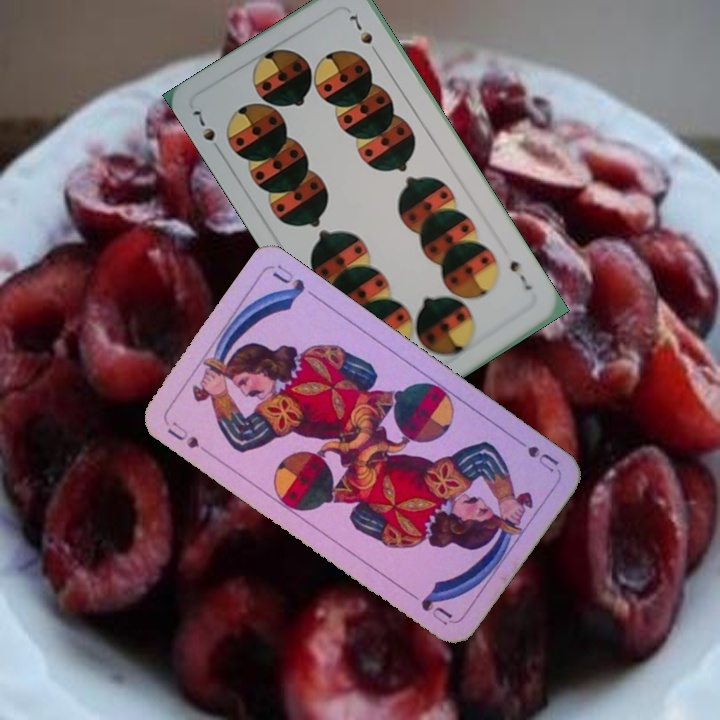S7: (189, 104, 226, 157), (505, 256, 535, 293)
SU: (508, 434, 562, 475), (163, 417, 214, 458)
